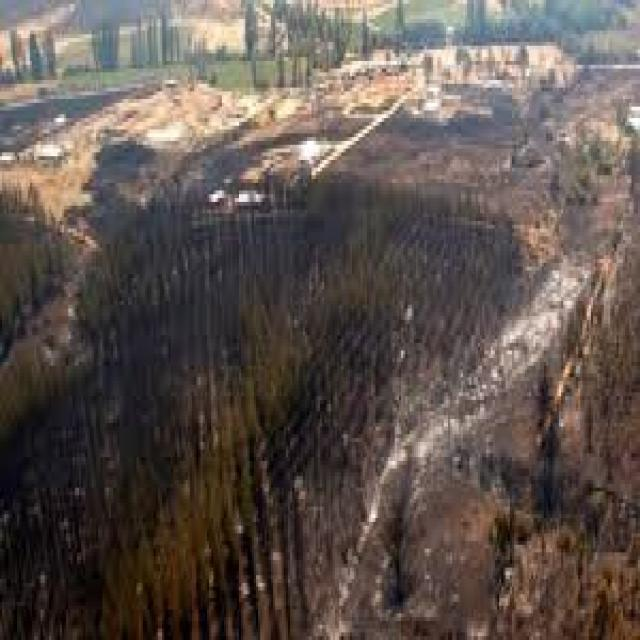Smoke: (74, 154, 417, 362)
